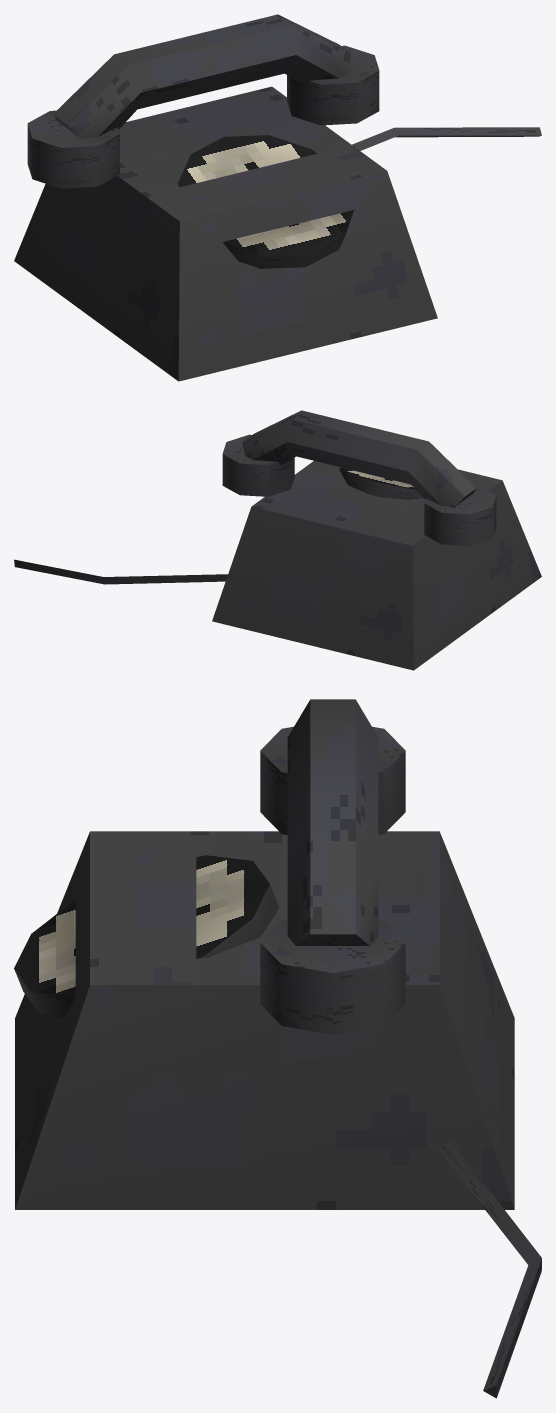
The model's file is phone.glb.
The picture shows the model from 3 angles, top to bottom: view 1: azimuth 30°, elevation 25°; view 2: azimuth 150°, elevation 25°; view 3: azimuth 270°, elevation 25°; orthographic projection. The views are drawn at different scales.
Visible parts, largest first — view 1: phone, phone_handset; view 2: phone, phone_handset; view 3: phone, phone_handset.
Boxes of the visible parts, x1,y1,x2,y2 form: phone: [14, 86, 541, 381]; phone_handset: [27, 14, 379, 188]; phone: [14, 461, 541, 670]; phone_handset: [222, 410, 496, 545]; phone: [14, 831, 541, 1398]; phone_handset: [260, 699, 405, 1034].
Bounding box in the file's own units: 0.4329 × 0.172 × 0.2325.
Materials: 2 (2 with a texture image).
